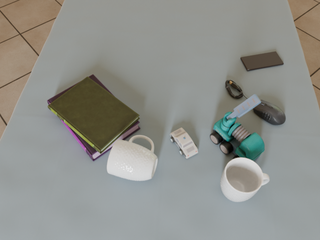book: (48, 77, 140, 154)
cup: (107, 135, 158, 181), (220, 158, 270, 202)
mouse: (253, 100, 286, 125)
phone: (241, 52, 284, 71)
toy_car: (210, 94, 265, 162), (170, 128, 198, 158)
